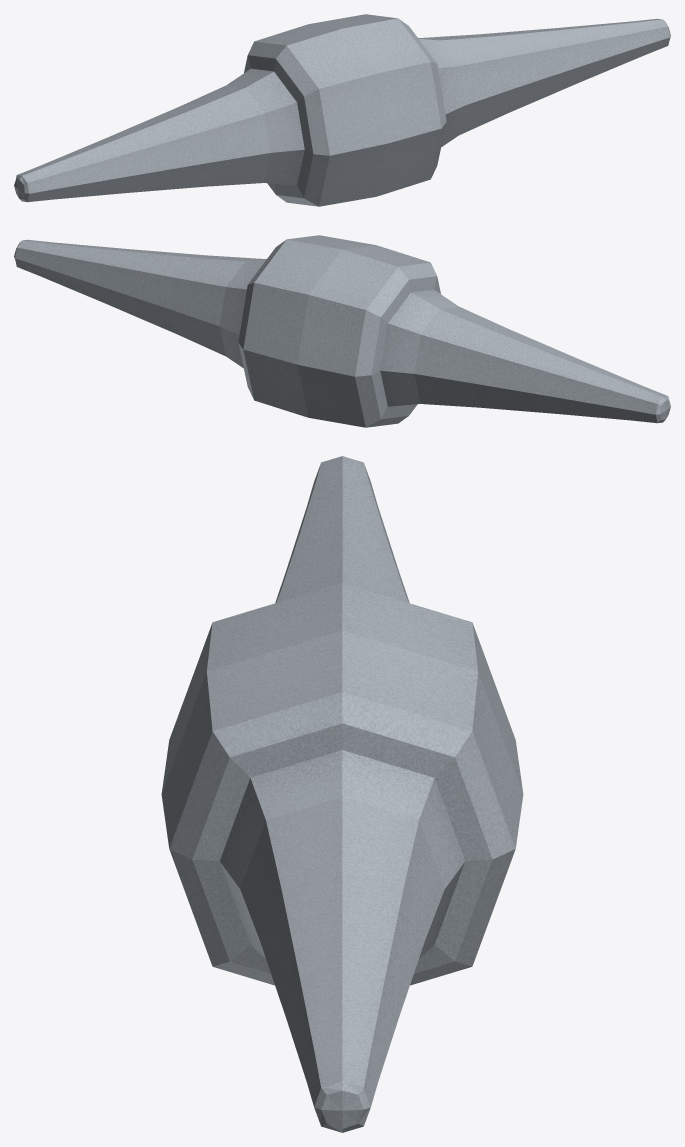
Rendered from dorn.obj.
The picture shows the model from 3 angles, top to bottom: view 1: azimuth 30°, elevation 25°; view 2: azimuth 150°, elevation 25°; view 3: azimuth 270°, elevation 25°; orthographic projection. The views are drawn at different scales.
Parts seen in each view (by area): view 1: Cube1_default; view 2: Cube1_default; view 3: Cube1_default.
Boxes of the visible parts, x1,y1,x2,y2 form: Cube1_default: (14,14,670,206); Cube1_default: (14,235,670,427); Cube1_default: (161,456,523,1132).
Size of the model in its own units: 8.27 by 2 by 2.
Materials: 1 (1 with a texture image).
